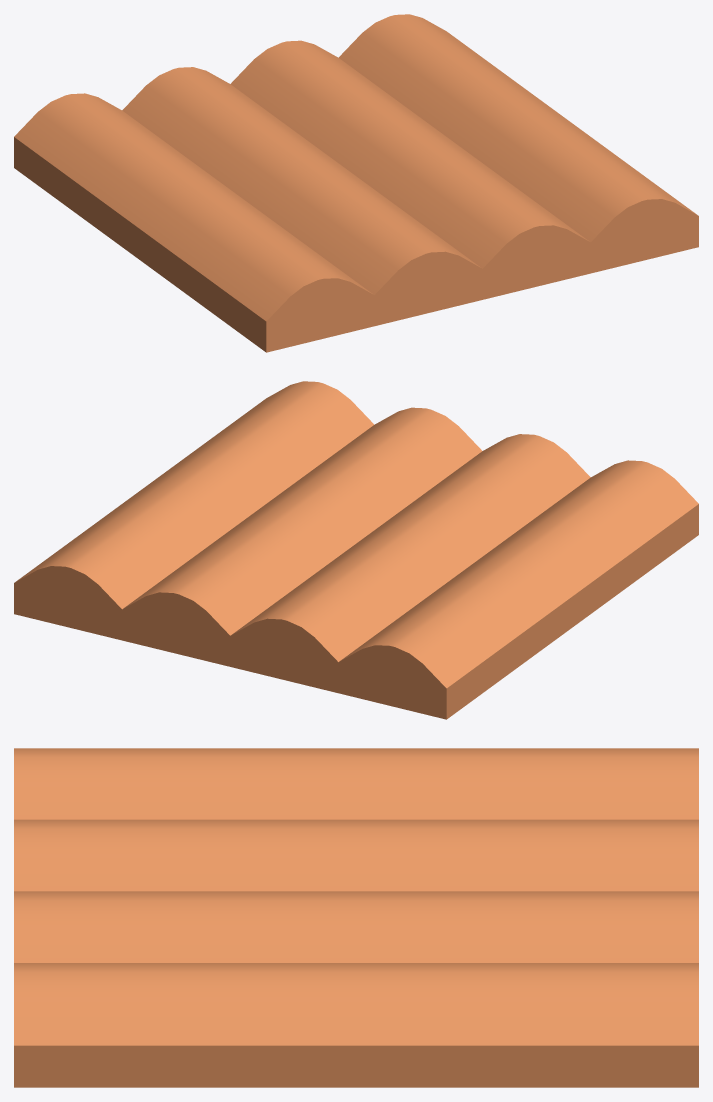
Rendered from Field.fbx.
3 views of the same model, one above another, from view 1: azimuth 30°, elevation 25°; view 2: azimuth 150°, elevation 25°; view 3: azimuth 270°, elevation 25° (orthographic). The views are drawn at different scales.
Visible parts, largest first — view 1: Field; view 2: Field; view 3: Field.
Boxes of the visible parts, x1=… form: Field: x1=14, y1=14, x2=698, y2=352; Field: x1=14, y1=381, x2=698, y2=719; Field: x1=14, y1=748, x2=698, y2=1087.
Bounding box in the file's own units: 256 × 33.97 × 259.
